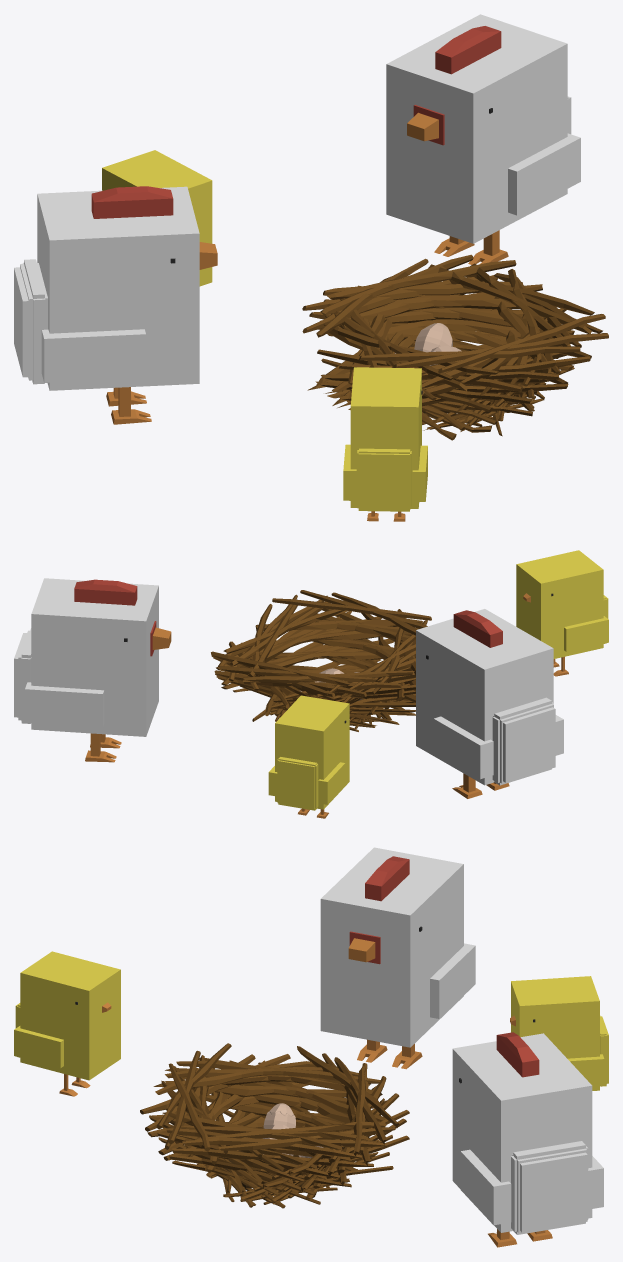
Rendered from low_poly_chickens_birth_moment.glb.
The picture shows the model from 3 angles, top to bottom: view 1: azimuth 30°, elevation 25°; view 2: azimuth 150°, elevation 25°; view 3: azimuth 270°, elevation 25°; orthographic projection. The views are drawn at different scales.
Parts seen in each view (by area): view 1: Poule.001, Poule, Nid, Poussin.001, Poussin, Oeuf; view 2: Poule.001, Poule, Nid, Poussin.001, Poussin; view 3: Nid, Poule, Poule.001, Poussin.001, Poussin, Oeuf Craquelle.
Part boxes in pixels (left/top/right/bottom): Poule.001: left=386, top=14, right=580, bottom=264; Poule: left=14, top=186, right=217, bottom=424; Nid: left=302, top=254, right=608, bottom=440; Poussin.001: left=343, top=367, right=427, bottom=521; Poussin: left=102, top=150, right=212, bottom=286; Oeuf: left=414, top=323, right=452, bottom=352; Poule.001: left=14, top=578, right=171, bottom=762; Poule: left=416, top=609, right=563, bottom=798; Nid: left=211, top=590, right=431, bottom=731; Poussin.001: left=516, top=550, right=608, bottom=676; Poussin: left=268, top=695, right=349, bottom=818; Nid: left=140, top=1043, right=409, bottom=1208; Poule: left=320, top=847, right=475, bottom=1069; Poule.001: left=452, top=1032, right=603, bottom=1247; Poussin.001: left=14, top=951, right=120, bottom=1096; Poussin: left=510, top=976, right=608, bottom=1090; Oeuf Craquelle: left=263, top=1103, right=295, bottom=1128.
Size of what is drawn, in the model's own units: 2.38 by 0.8298 by 2.25.
